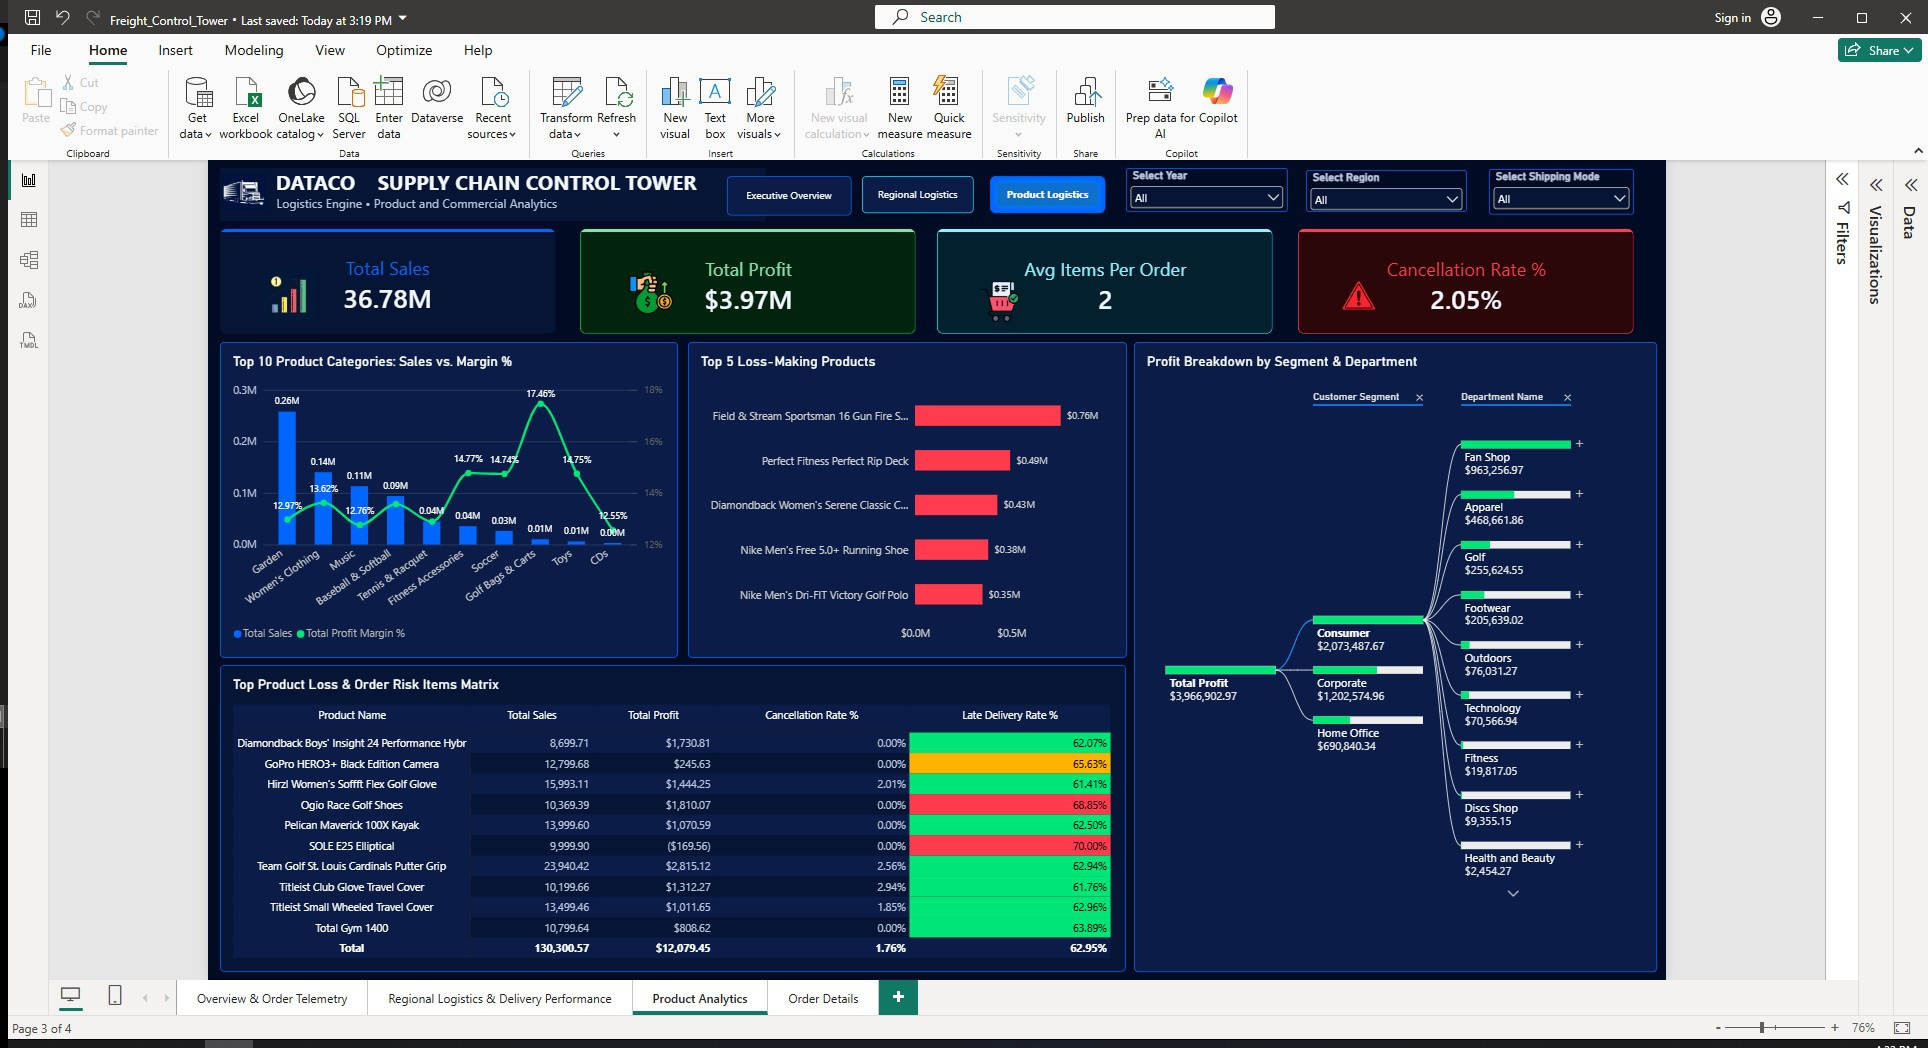

The dashboard page shown, as its layout file describes it:
{"tool":"powerbi","page":{"name":"Product Analytics","canvas":[1920,1080],"ordinal":2},"visuals":[{"type":"textbox","title":"DATACO SUPPLY CHAIN CONTROL TOWER","box":[15.8,10.5,719.1,69.8],"z":0},{"type":"cardVisual","fields":{"Data":["_Key Measures.Total Sales"]},"box":[16,90.5,442.1,138.6],"z":1000},{"type":"cardVisual","fields":{"Data":["_Key Measures.Total Profit"]},"box":[490.2,90.5,442.1,138.6],"z":2000},{"type":"cardVisual","fields":{"Data":["_Key Measures.Avg Items Per Order"]},"box":[960,90.5,442.1,138.6],"z":3000},{"type":"cardVisual","fields":{"Data":["_Key Measures.Cancellation Rate %"]},"box":[1435.6,90.5,442.1,138.6],"z":4000},{"type":"slicer","fields":{"Values":["DateTable.Year"]},"box":[1209.5,10.2,213,58.4],"z":5000},{"type":"slicer","fields":{"Values":["DataCoSupplyChainDataset.Order Region"]},"box":[1445.8,13.1,211.6,55.4],"z":6000},{"type":"slicer","fields":{"Values":["DataCoSupplyChainDataset.Shipping Mode"]},"box":[1686.6,11.7,191.1,59.8],"z":7000},{"type":"lineStackedColumnComboChart","title":"Top 10 Product Categories: Sales vs. Margin %","fields":{"Category":["DataCoSupplyChainDataset.Category Name"],"Y":["_Key Measures.Total Sales"],"Y2":["_Key Measures.Total Profit Margin %"]},"box":[16,239.3,602.6,415.8],"z":8000},{"type":"decompositionTreeVisual","title":"Profit Breakdown by Segment & Department","fields":{"ExplainBy":["DataCoSupplyChainDataset.Customer Segment","DataCoSupplyChainDataset.Department Name","DataCoSupplyChainDataset.Category Name"],"Analyze":["_Key Measures.Total Profit"]},"box":[1219.7,239.3,688.6,830.2],"z":9000},{"type":"pivotTable","title":"Top Product Loss & Order Risk Items Matrix","fields":{"Rows":["DataCoSupplyChainDataset.Product Name"],"Values":["_Key Measures.Total Sales","_Key Measures.Total Profit","_Key Measures.Cancellation Rate %","_Key Measures.Late Delivery Rate %"]},"box":[16,665.3,1193.4,404.1],"z":10000},{"type":"clusteredBarChart","title":"Top 5 Loss-Making Products","fields":{"Category":["DataCoSupplyChainDataset.Product Name"],"Y":["_Key Measures.Total Profit"]},"box":[631.7,239.3,577.8,415.8],"z":11000},{"type":"actionButton","title":"Executive Overview","box":[683.7,20.6,163.6,51.6],"z":12000},{"type":"actionButton","title":"Regional Logistics","box":[862,20.6,147.4,48.6],"z":13000},{"type":"actionButton","title":"Product Analytics","box":[1030,20.6,151.8,48.6],"z":14000},{"type":"image","box":[55.3,144.9,102.7,68.5],"z":14001},{"type":"image","box":[554.5,144.9,58,59.3],"z":14002},{"type":"image","box":[1008.9,159.4,67.2,54],"z":14003},{"type":"image","box":[1479.1,148.8,72.4,59.3],"z":14004},{"type":"image","box":[15.8,17.1,63.2,48.7],"z":14005}]}

Visuals, with their boxes on the page's 1920x1080 design canvas (x1, y1, x2, y2). These are canvas units, not pixel positions in the 1928x1048 screenshot, which may show the page scaled, cropped or inside an application window:
"DATACO SUPPLY CHAIN CONTROL TOWER" textbox: bbox=[16, 10, 735, 80]
cardVisual - _Key Measures.Total Sales: bbox=[16, 90, 458, 229]
cardVisual - _Key Measures.Total Profit: bbox=[490, 90, 932, 229]
cardVisual - _Key Measures.Avg Items Per Order: bbox=[960, 90, 1402, 229]
cardVisual - _Key Measures.Cancellation Rate %: bbox=[1436, 90, 1878, 229]
slicer - DateTable.Year: bbox=[1210, 10, 1422, 69]
slicer - DataCoSupplyChainDataset.Order Region: bbox=[1446, 13, 1657, 68]
slicer - DataCoSupplyChainDataset.Shipping Mode: bbox=[1687, 12, 1878, 72]
"Top 10 Product Categories: Sales vs. Margin %" lineStackedColumnComboChart: bbox=[16, 239, 619, 655]
"Profit Breakdown by Segment & Department" decompositionTreeVisual: bbox=[1220, 239, 1908, 1070]
"Top Product Loss & Order Risk Items Matrix" pivotTable: bbox=[16, 665, 1209, 1069]
"Top 5 Loss-Making Products" clusteredBarChart: bbox=[632, 239, 1210, 655]
"Executive Overview" actionButton: bbox=[684, 21, 847, 72]
"Regional Logistics" actionButton: bbox=[862, 21, 1009, 69]
"Product Analytics" actionButton: bbox=[1030, 21, 1182, 69]
image: bbox=[55, 145, 158, 213]
image: bbox=[554, 145, 612, 204]
image: bbox=[1009, 159, 1076, 213]
image: bbox=[1479, 149, 1552, 208]
image: bbox=[16, 17, 79, 66]
